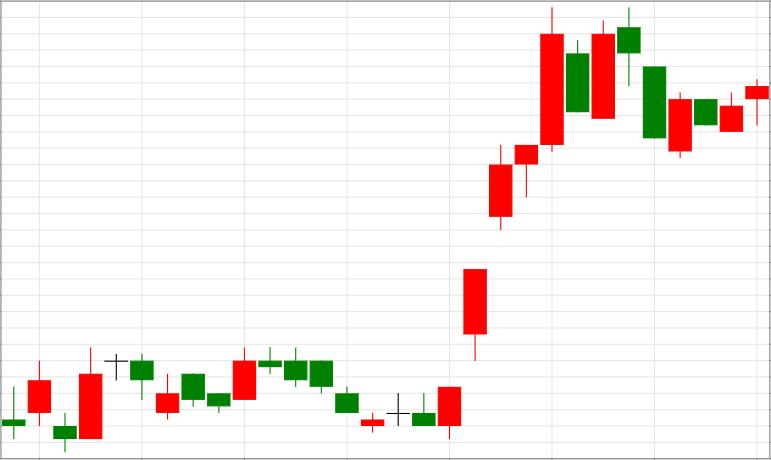three_white_soldiers_rise: (259, 146, 513, 440)
